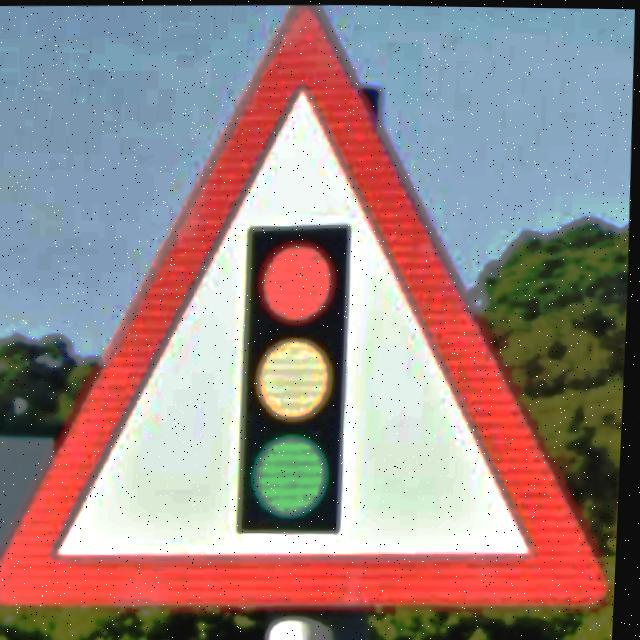signalahead: (0, 4, 618, 612)
